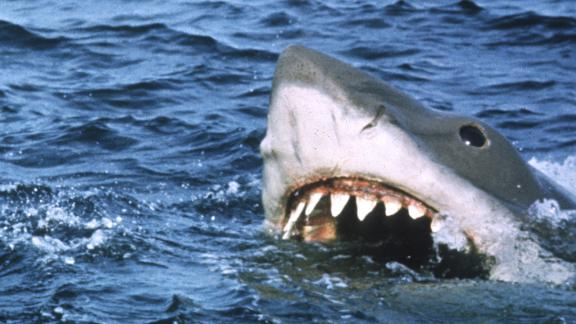shark: (249, 27, 576, 273)
